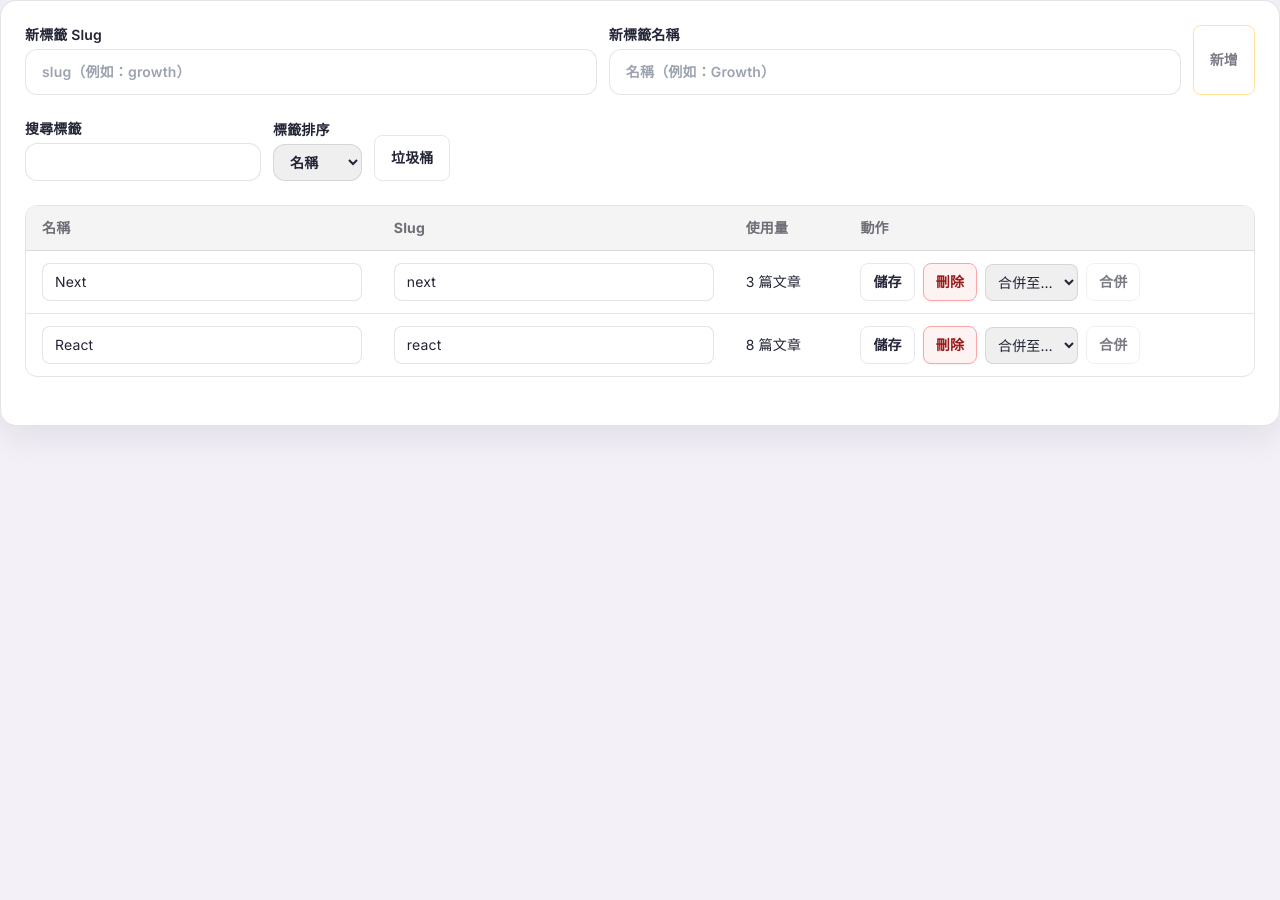
Test: TagAdminClient › 合併標籤失敗時仍會關閉確認對話框並顯示錯誤
The width and height of the screenshot is (1280, 900).
Select "Next" in the dropdown named "React 合併目標" at point(1032, 345), box [985, 326, 1078, 364]
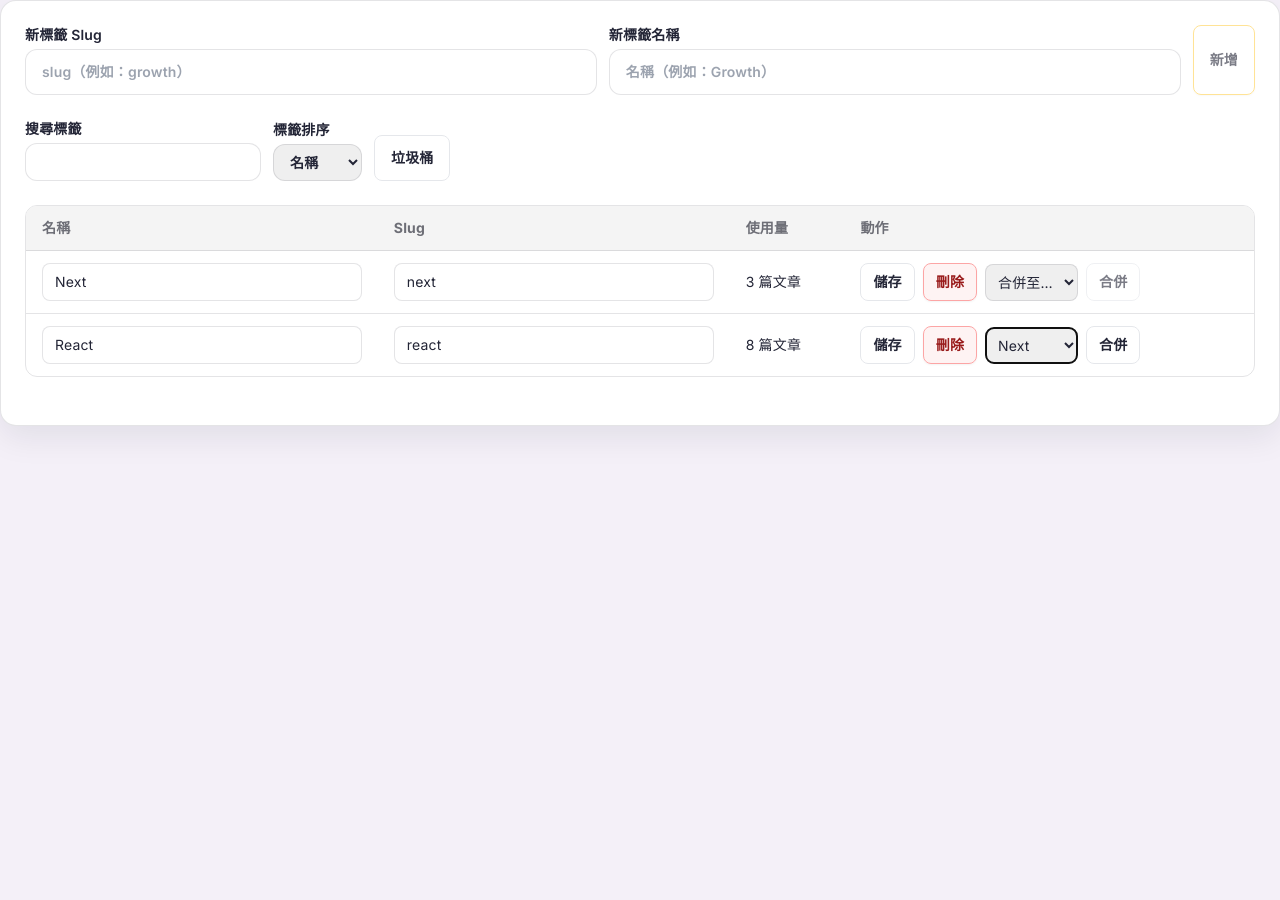
Click the button with aria-label "合併 React" at point(1113, 345), box [1086, 326, 1140, 364]
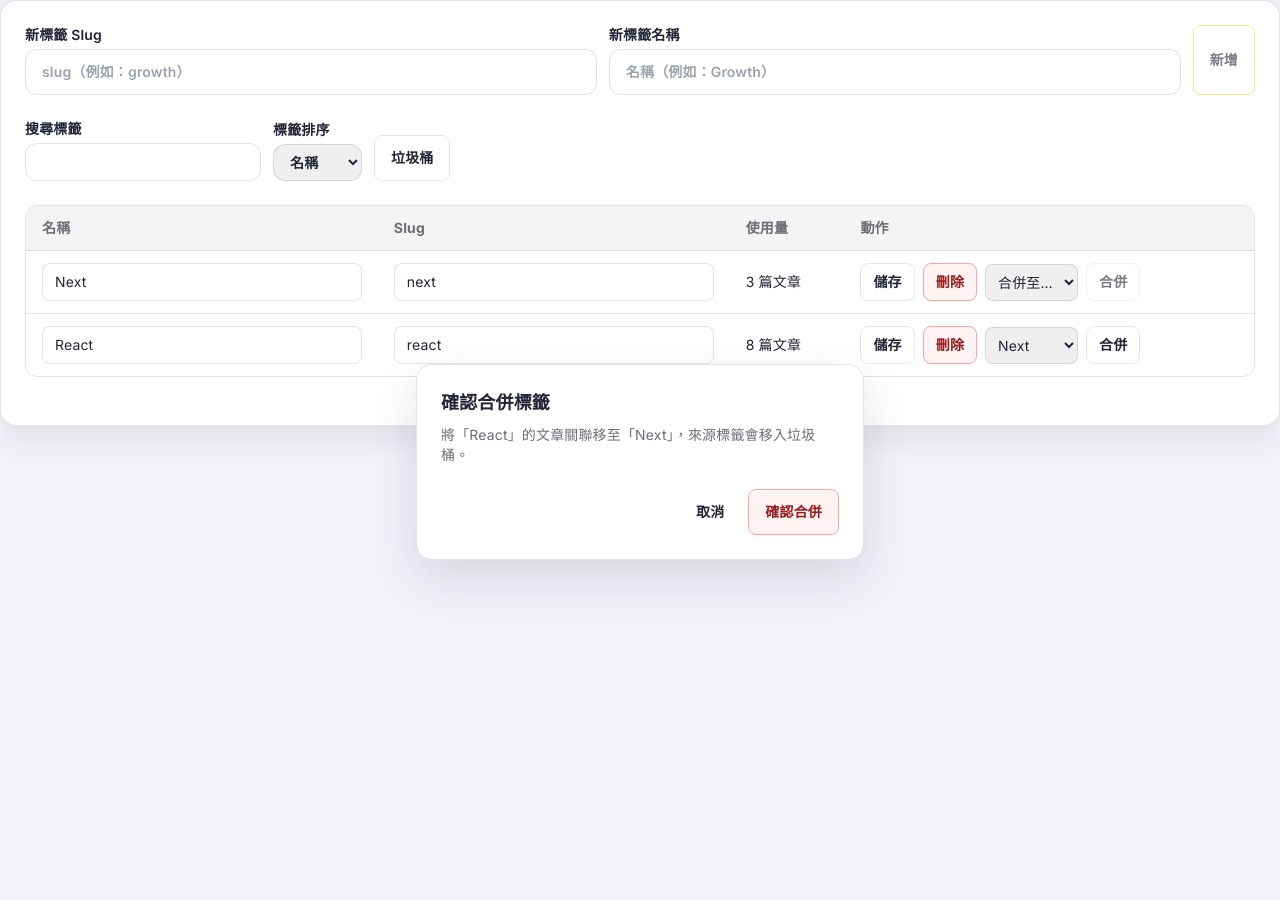
Now the dialog "確認合併標籤" is shown, box [416, 364, 864, 560]
Click the button "確認合併" at point(794, 512), box [748, 489, 839, 535]
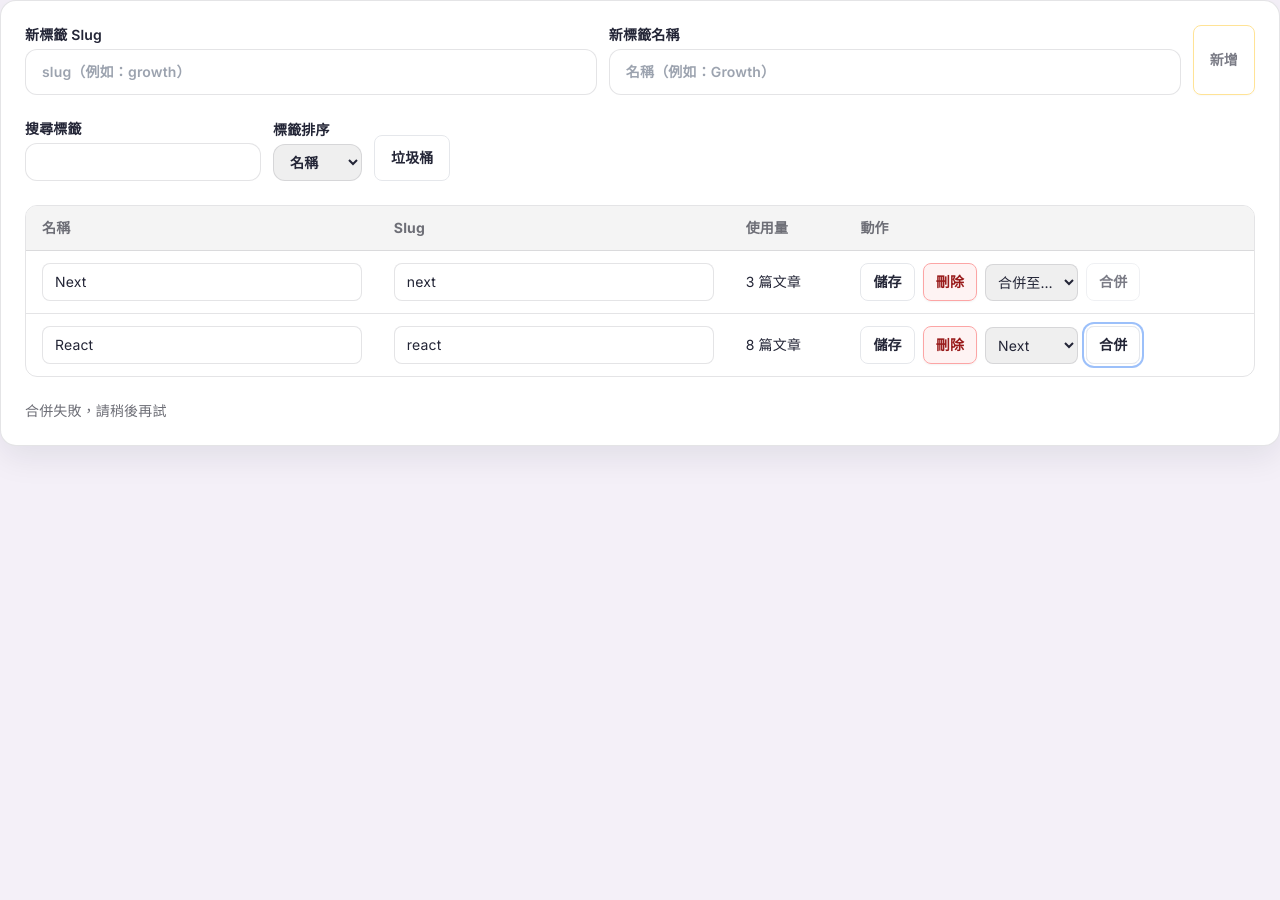
Now the text "合併失敗，請稍後再試" is shown, box [25, 402, 167, 419]
Now the heading "確認合併標籤" is gone
